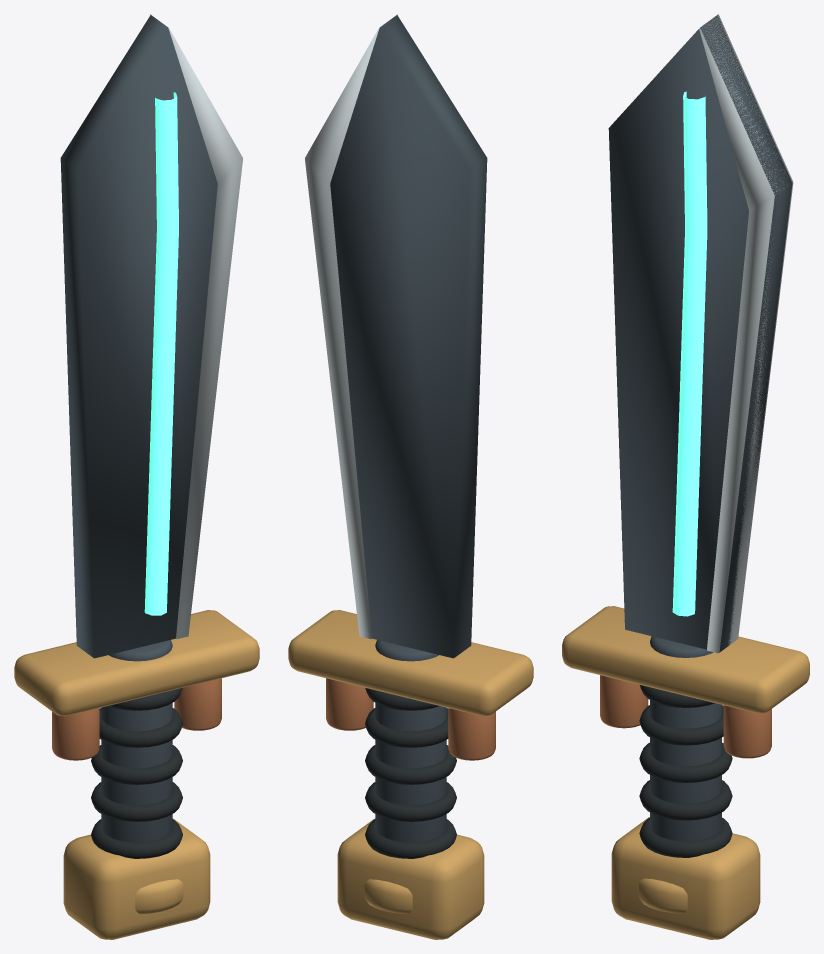
Rendered from powered_twins.t4.glb.
3 renders of one model, left to right at view 1: azimuth 30°, elevation 25°; view 2: azimuth 150°, elevation 25°; view 3: azimuth 330°, elevation 25°, orthographic.
Visible parts, largest first — view 1: weapon_right__forged_bluelead_steel__protected, weapon_right__worn_warm_brass__protected, weapon_right__mint_reticle__protected, weapon_right__honed_steel_edge__protected, weapon_right__charcoal_rubber__protected, weapon_right__burnished_copper__protected; view 2: weapon_right__forged_bluelead_steel__protected, weapon_right__worn_warm_brass__protected, weapon_right__honed_steel_edge__protected, weapon_right__charcoal_rubber__protected, weapon_right__burnished_copper__protected; view 3: weapon_right__forged_bluelead_steel__protected, weapon_right__worn_warm_brass__protected, weapon_right__honed_steel_edge__protected, weapon_right__mint_reticle__protected, weapon_right__charcoal_rubber__protected, weapon_right__burnished_copper__protected.
Boxes of the visible parts, x1,y1,x2,y2 form: weapon_right__forged_bluelead_steel__protected: [60, 15, 217, 842]; weapon_right__worn_warm_brass__protected: [14, 610, 259, 939]; weapon_right__mint_reticle__protected: [144, 92, 178, 615]; weapon_right__honed_steel_edge__protected: [150, 14, 242, 638]; weapon_right__charcoal_rubber__protected: [91, 688, 182, 858]; weapon_right__burnished_copper__protected: [52, 678, 221, 760]; weapon_right__forged_bluelead_steel__protected: [330, 15, 487, 842]; weapon_right__worn_warm_brass__protected: [288, 610, 533, 939]; weapon_right__honed_steel_edge__protected: [305, 14, 397, 638]; weapon_right__charcoal_rubber__protected: [365, 688, 456, 858]; weapon_right__burnished_copper__protected: [326, 678, 495, 760]; weapon_right__forged_bluelead_steel__protected: [608, 15, 792, 841]; weapon_right__worn_warm_brass__protected: [562, 606, 809, 939]; weapon_right__honed_steel_edge__protected: [699, 14, 793, 653]; weapon_right__mint_reticle__protected: [672, 91, 707, 616]; weapon_right__charcoal_rubber__protected: [639, 685, 732, 857]; weapon_right__burnished_copper__protected: [600, 675, 771, 758].
Bounding box in the file's own units: 0.3392 × 1.4 × 0.1505.
